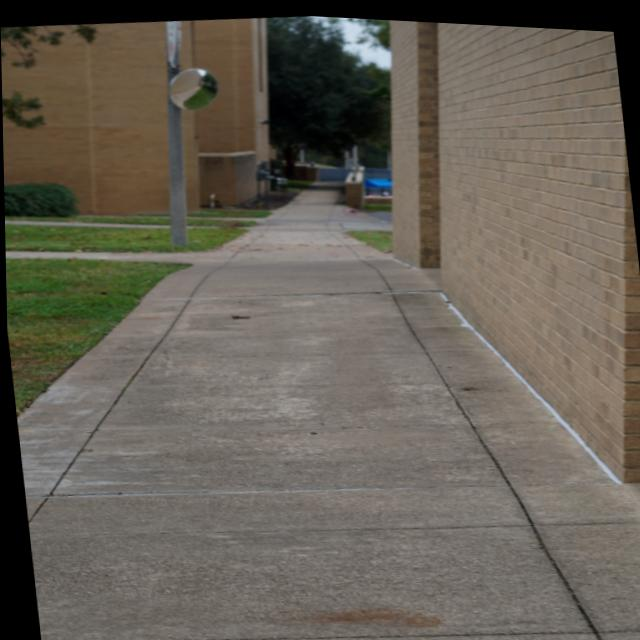Sidewalk: (4, 185, 640, 640), (4, 220, 134, 226)
